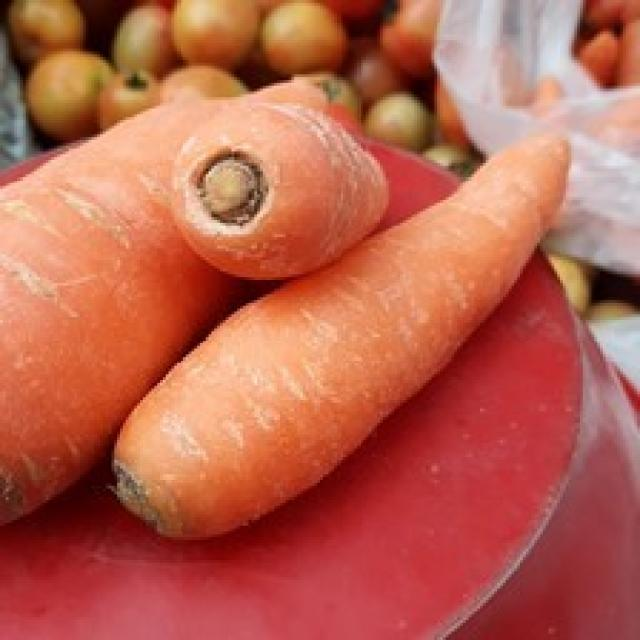Fresh_Carrot: (114, 147, 571, 536), (0, 144, 277, 489), (168, 106, 376, 262)
